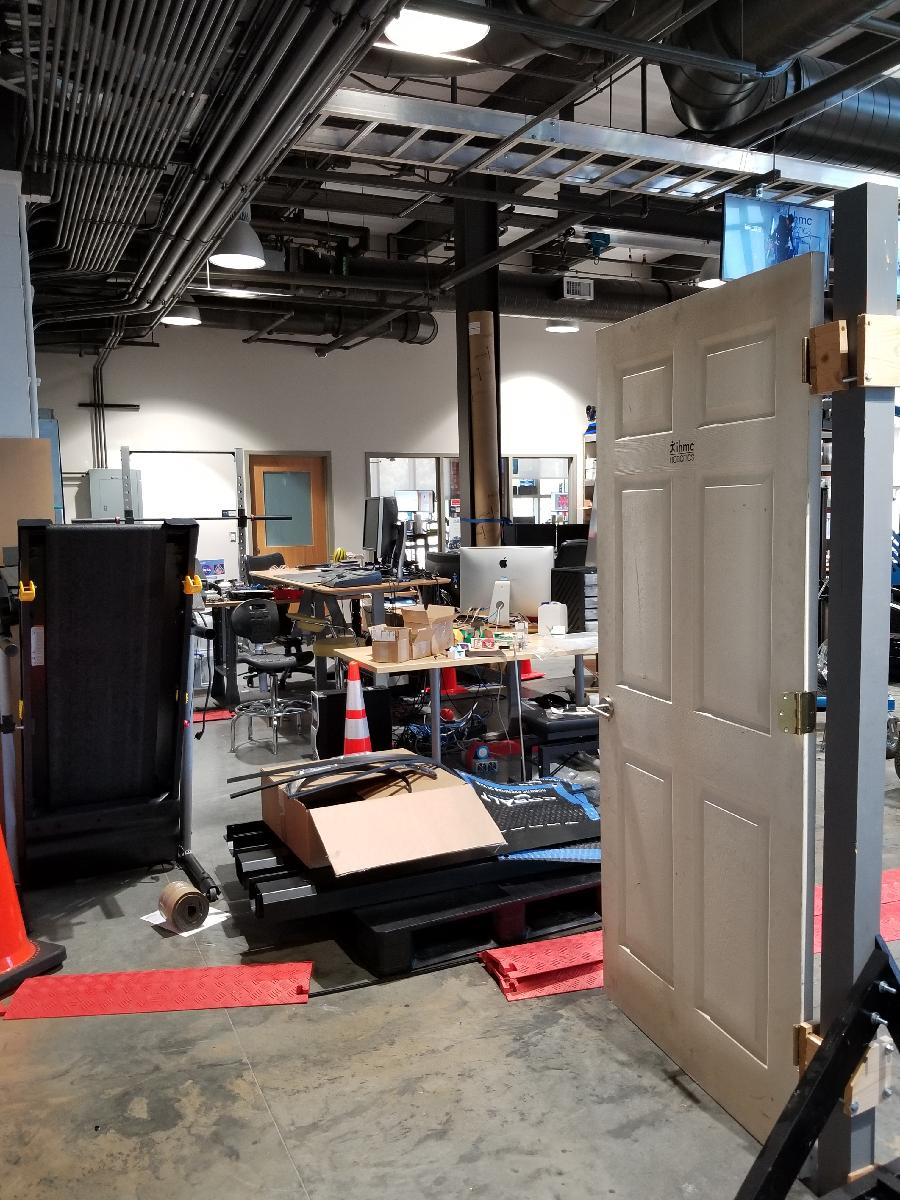door: (589, 249, 827, 1171)
doorHandle: (586, 697, 623, 722)
